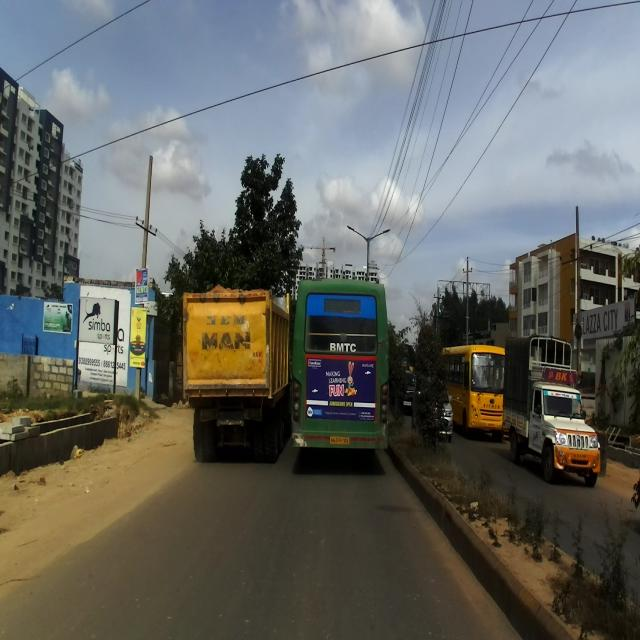bus: (289, 276, 389, 465)
truck: (181, 280, 293, 461), (502, 334, 602, 486)
